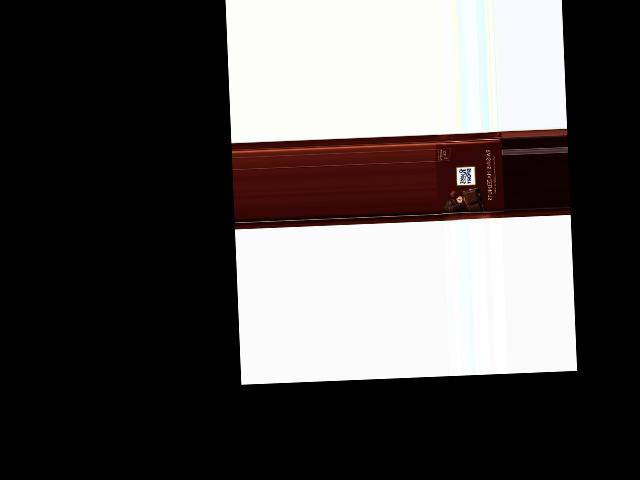chocolate: (434, 131, 505, 222)
